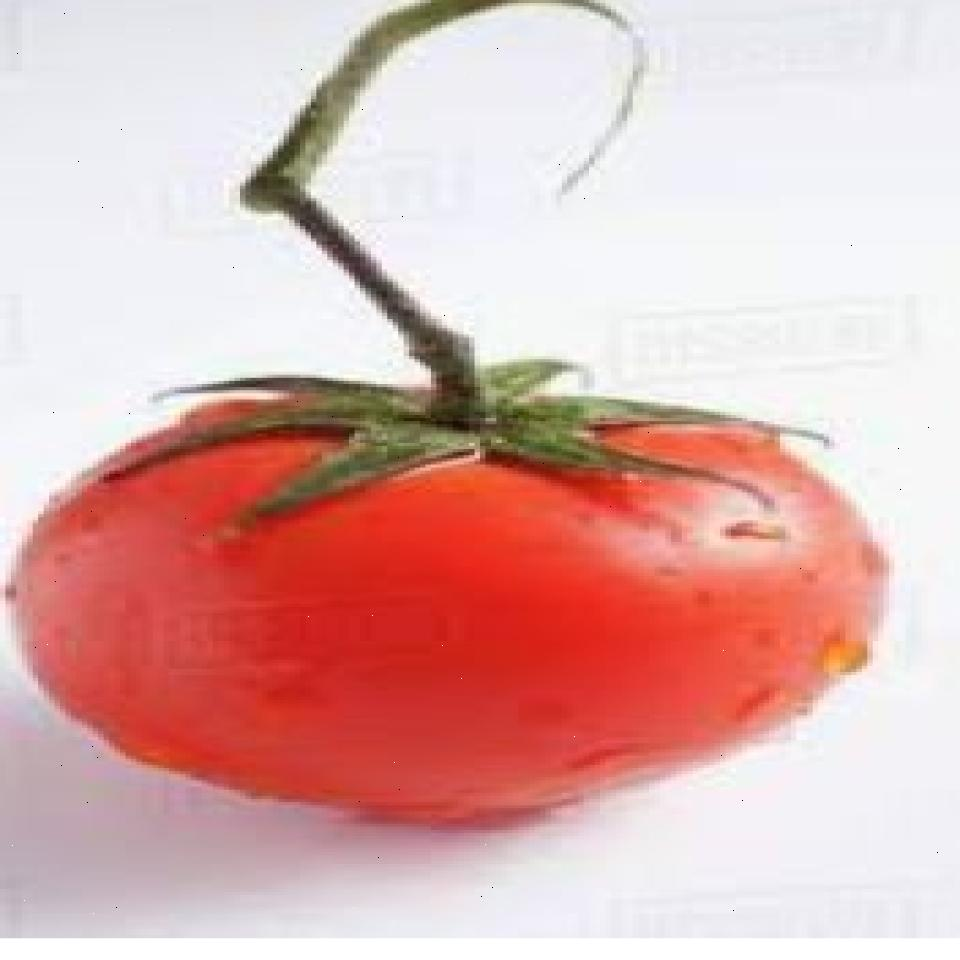Healthy: (13, 334, 909, 810)
